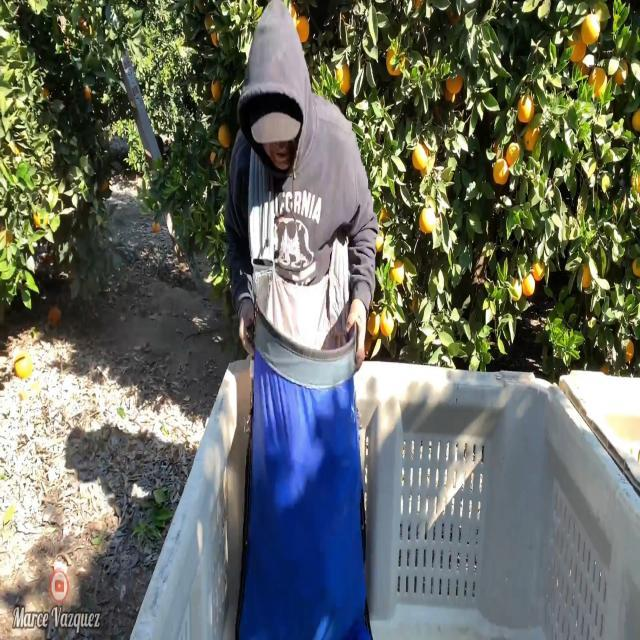Jeruk Sudah Matang: (377, 300, 399, 344), (588, 61, 608, 108), (580, 9, 602, 51), (515, 86, 536, 129), (409, 138, 429, 174), (504, 138, 524, 172), (418, 203, 438, 236), (519, 266, 538, 298), (293, 12, 312, 44), (492, 156, 512, 186), (208, 76, 226, 105), (627, 105, 640, 134), (367, 310, 382, 334), (217, 122, 230, 146)
